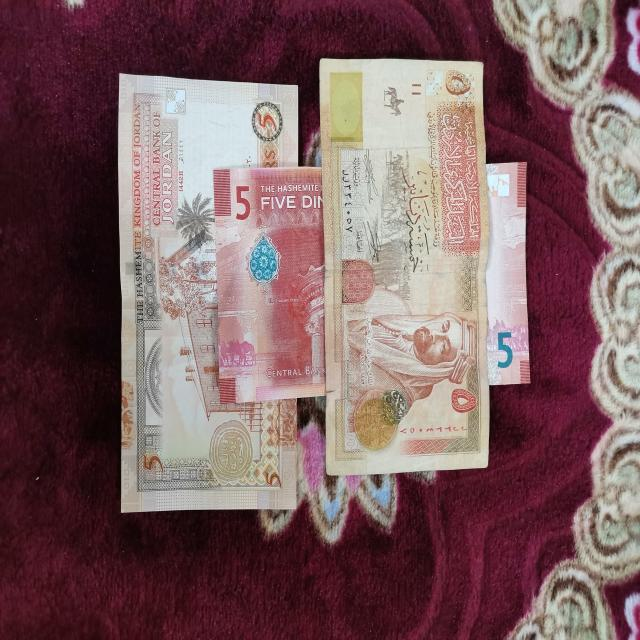5-dinar: (114, 66, 300, 521), (208, 158, 534, 406), (318, 57, 499, 480)
